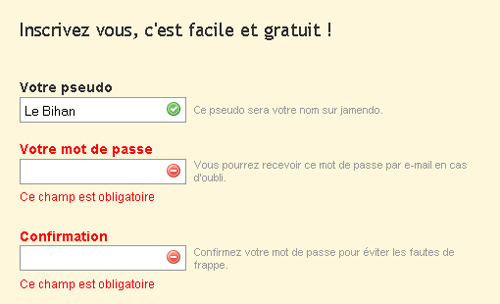error_message: (18, 190, 154, 204), (18, 143, 153, 157), (20, 278, 157, 291), (18, 230, 111, 244)
